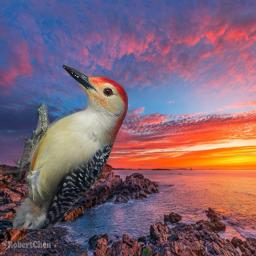Woodpecker: (13, 64, 128, 229)
